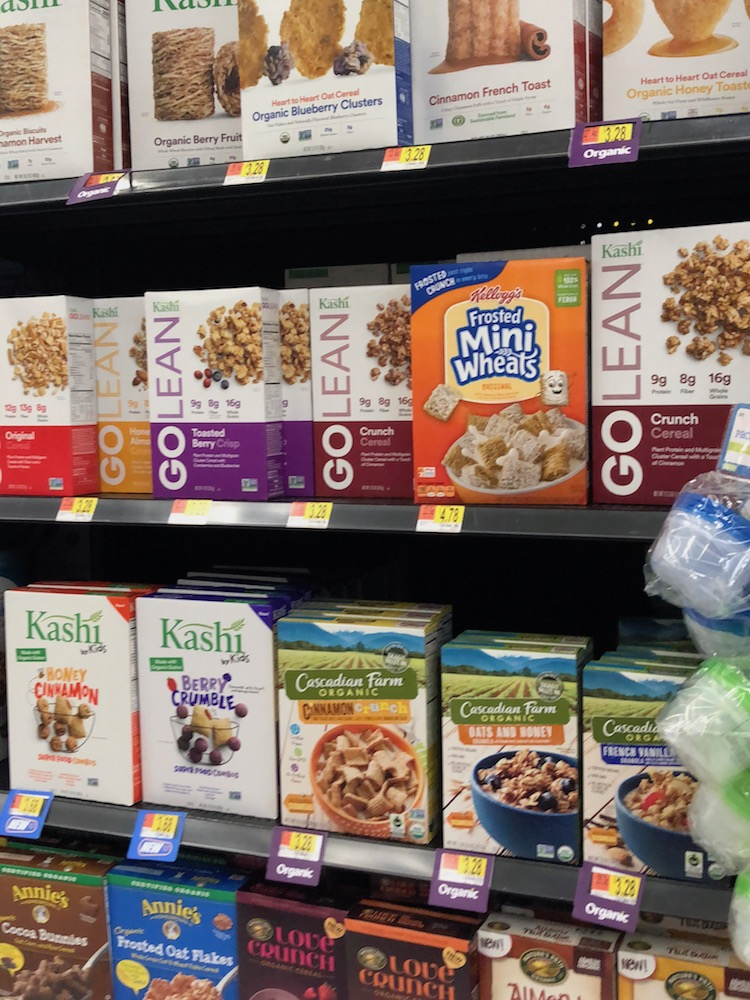Frosted Mini Original -9295869: (413, 287, 585, 510)
